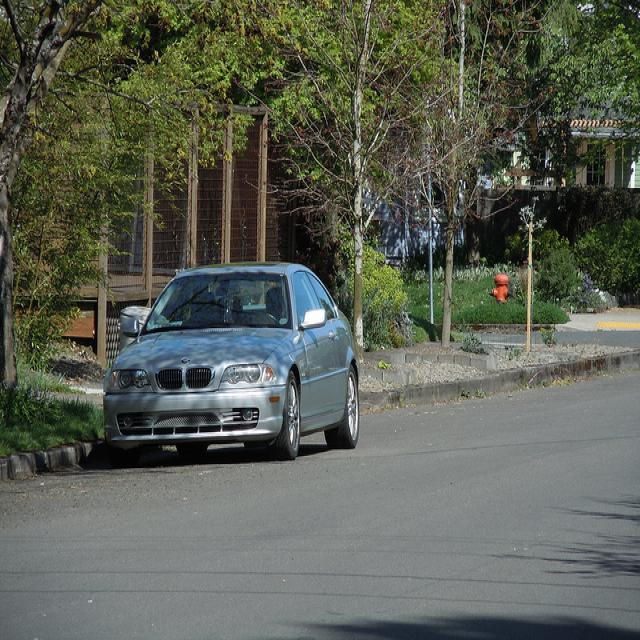fire_hydrant: (487, 273, 512, 303)
